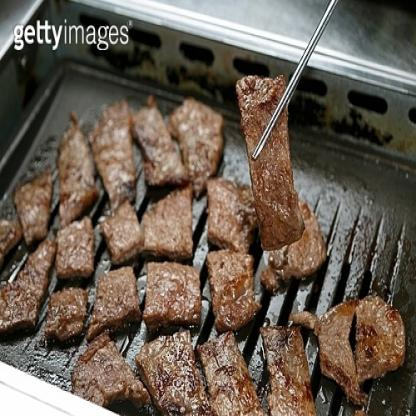Carne: (234, 69, 303, 242), (120, 100, 184, 197), (85, 96, 143, 201), (167, 93, 224, 196), (352, 292, 415, 383), (140, 247, 207, 330), (0, 222, 49, 335), (262, 317, 316, 415), (259, 205, 326, 283), (139, 328, 199, 414), (315, 299, 363, 405), (137, 189, 203, 264), (203, 173, 260, 259), (52, 112, 98, 218), (204, 241, 256, 332), (61, 346, 136, 403), (202, 338, 256, 415), (90, 198, 146, 271), (89, 266, 142, 338), (52, 216, 96, 292), (19, 160, 54, 250), (44, 285, 92, 349)
